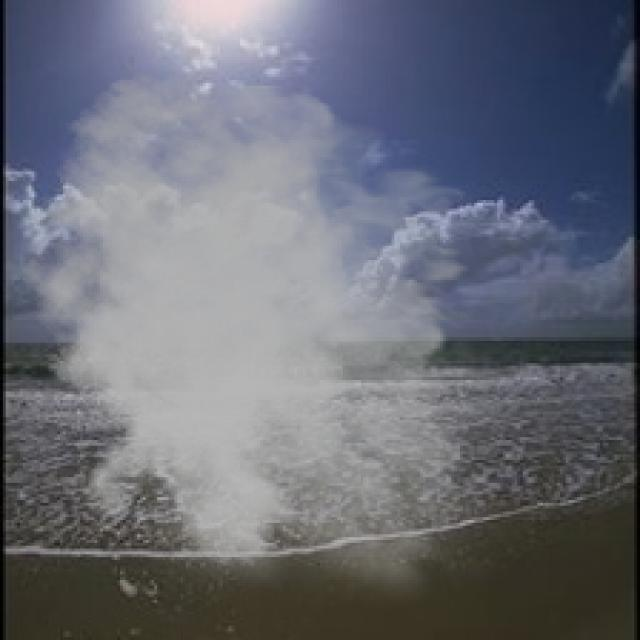smoke: (0, 72, 529, 617)
